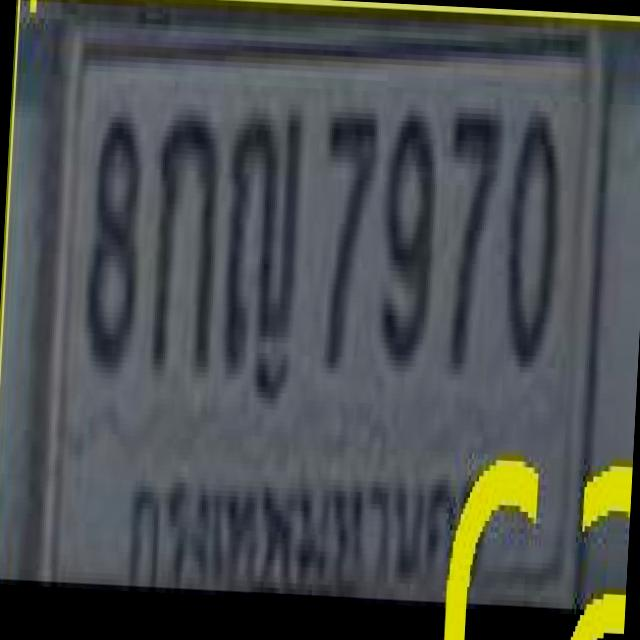license_plate: (38, 4, 610, 608)
